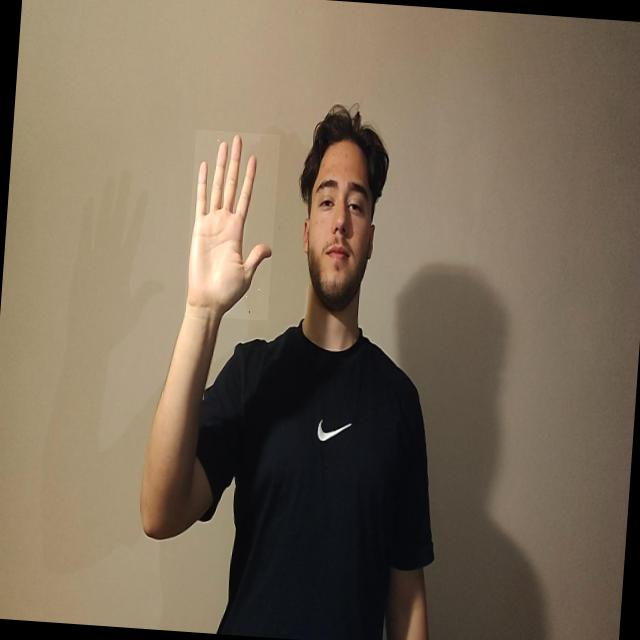hello: (183, 129, 280, 320)
